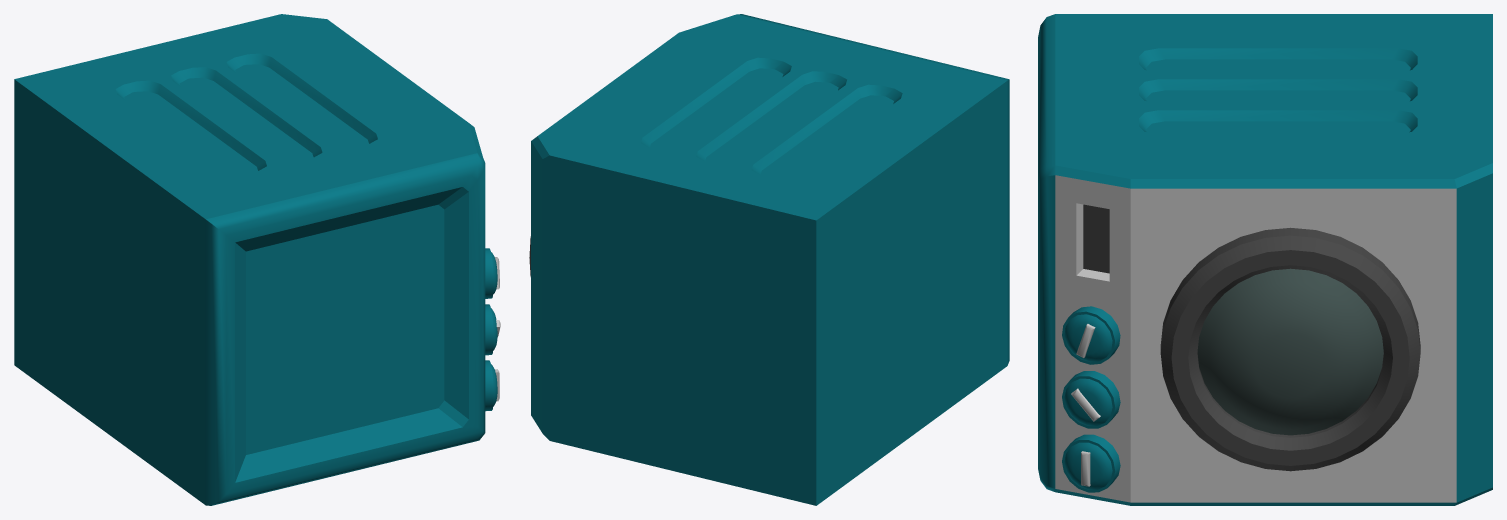
The model's file is washer.glb.
3 renders of one model, left to right at view 1: azimuth 30°, elevation 25°; view 2: azimuth 150°, elevation 25°; view 3: azimuth 270°, elevation 25°, orthographic. The views are drawn at different scales.
Parts seen in each view (by area): view 1: washer; view 2: washer; view 3: washer.
Boxes of the visible parts, x1,y1,x2,y2 form: washer: (14,14,500,505); washer: (529,14,1009,505); washer: (1038,14,1492,505).
Bounding box in the file's own units: 1.12 × 0.905 × 1.14.
